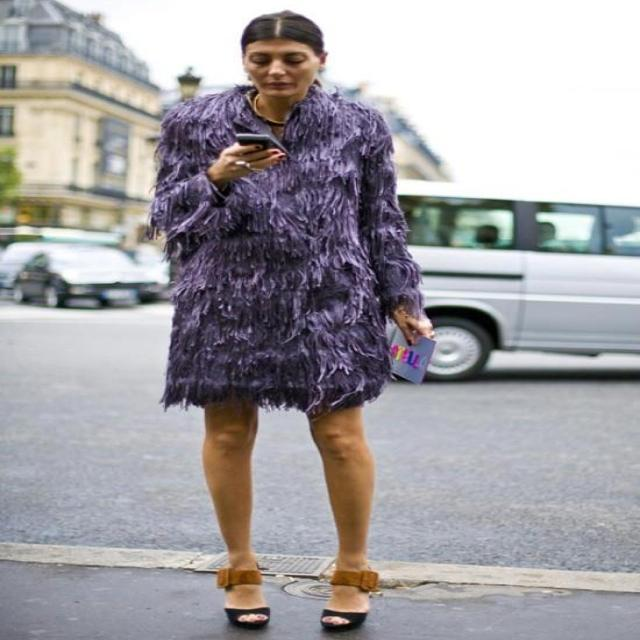dress: (148, 85, 424, 408)
